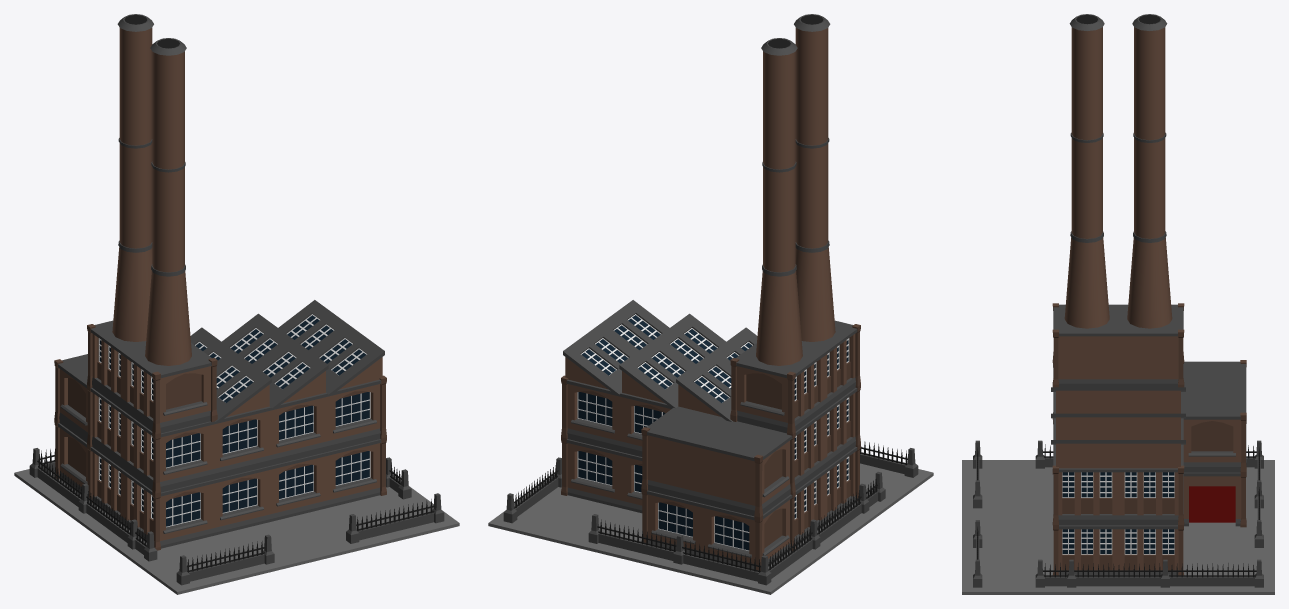
File: 3x3_Factory.fbx
3 renders of one model, left to right at view 1: azimuth 30°, elevation 25°; view 2: azimuth 150°, elevation 25°; view 3: azimuth 270°, elevation 25°, orthographic. The views are drawn at different scales.
Parts seen in each view (by area): view 1: 3x3 Factory; view 2: 3x3 Factory; view 3: 3x3 Factory.
Boxes of the visible parts, bbox=[...] form: 3x3 Factory: bbox=[14, 14, 459, 594]; 3x3 Factory: bbox=[488, 14, 933, 594]; 3x3 Factory: bbox=[962, 14, 1274, 594].
Size of the model in its own units: 3 by 4.98 by 3.
